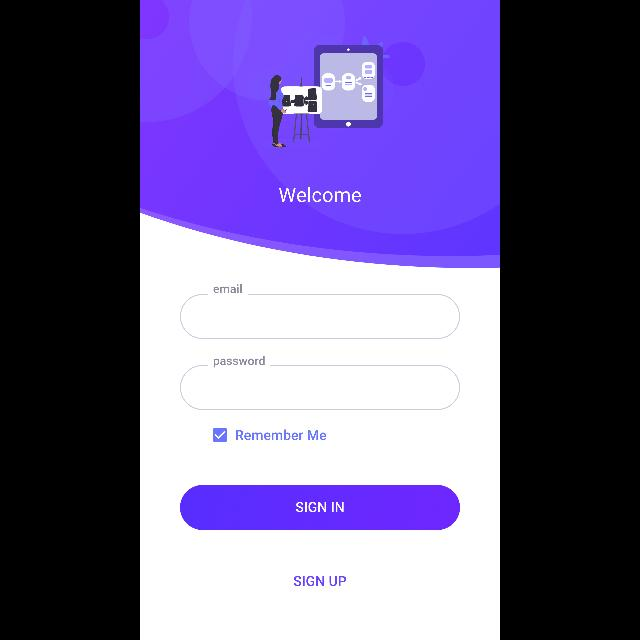checkbox: (214, 428, 226, 442)
image: (268, 36, 390, 148)
input: (180, 284, 460, 340), (180, 356, 460, 410)
text: (278, 187, 362, 203), (236, 430, 328, 440), (214, 356, 266, 368), (294, 576, 346, 586), (214, 284, 242, 292)
textbutton: (180, 486, 460, 530)
